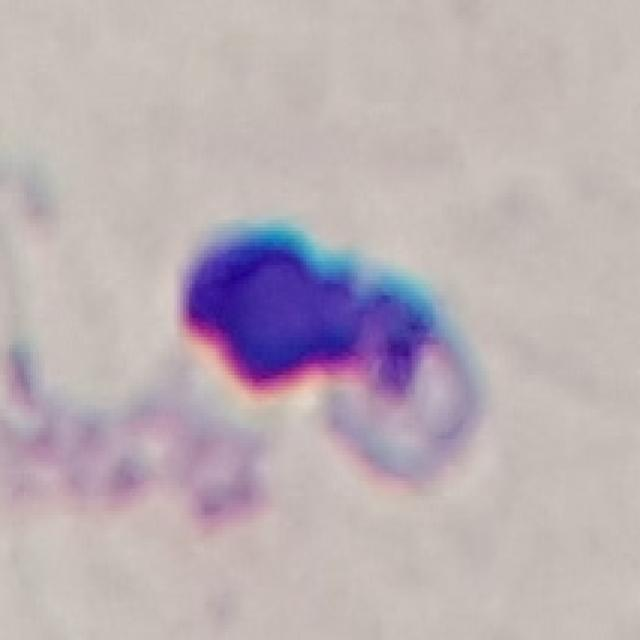non-sperm: (180, 228, 484, 484)
